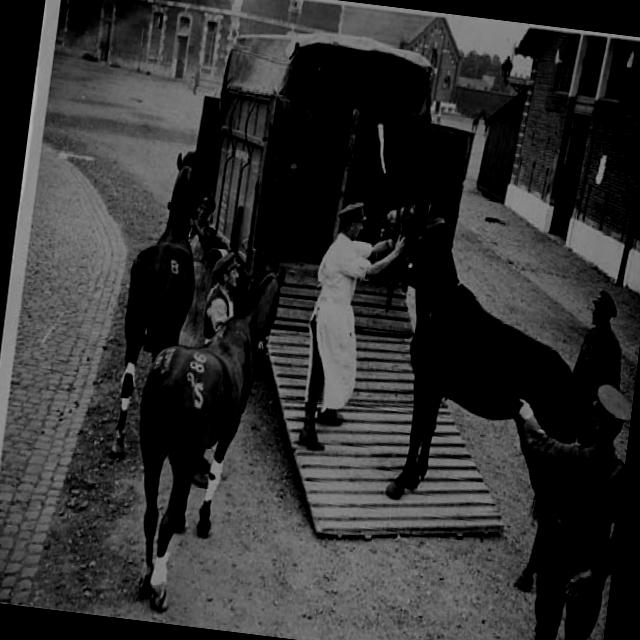Vehicle: (131, 14, 561, 560)
